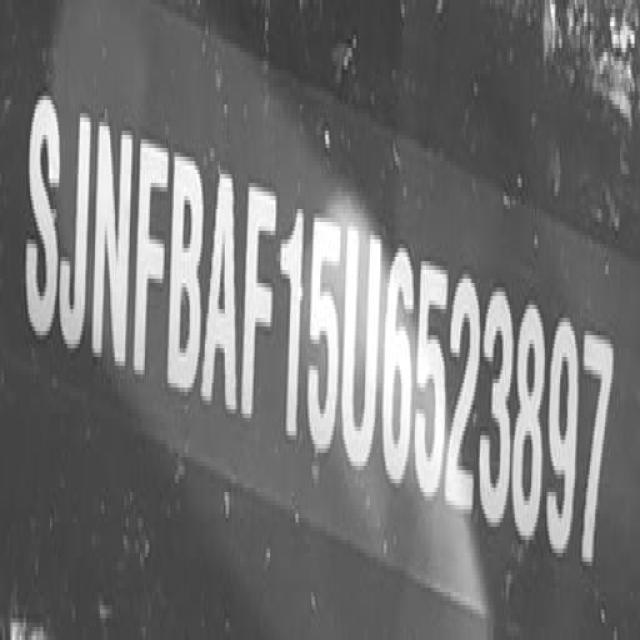1: (278, 202, 303, 456)
2: (445, 269, 483, 524)
3: (478, 274, 512, 532)
5: (303, 206, 342, 464), (414, 252, 448, 504)
6: (380, 248, 414, 490)
7: (582, 321, 616, 590)
8: (510, 297, 544, 543)
9: (545, 318, 582, 569)
A: (203, 165, 238, 416)
B: (168, 150, 203, 411)
F: (132, 132, 170, 394), (242, 174, 278, 421)
J: (59, 106, 93, 371)
N: (91, 124, 134, 377)
S: (26, 90, 60, 350)
U: (340, 230, 383, 472)
